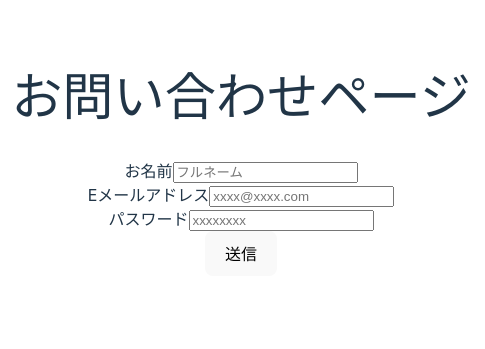
<Contact /> test › <Contact /> send button › shows specific validation errors on partial submit
The image size is (485, 349).
Type "テストネーム" into the field labelled "お名前" at x=265, y=172, box left=172, top=162, right=358, bottom=183
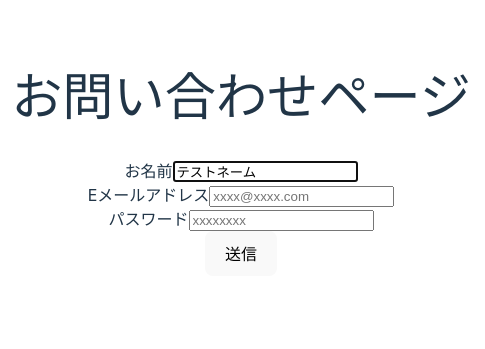
Click the button "送信" at x=241, y=254, box left=205, top=231, right=277, bottom=276
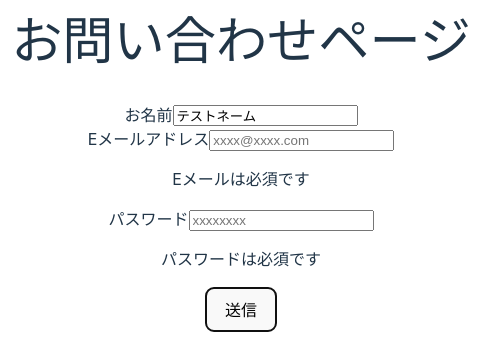
Now the text "Eメールは必須です" is shown, box left=172, top=169, right=310, bottom=189
Now the text "パスワードは必須です" is shown, box left=161, top=249, right=321, bottom=269
